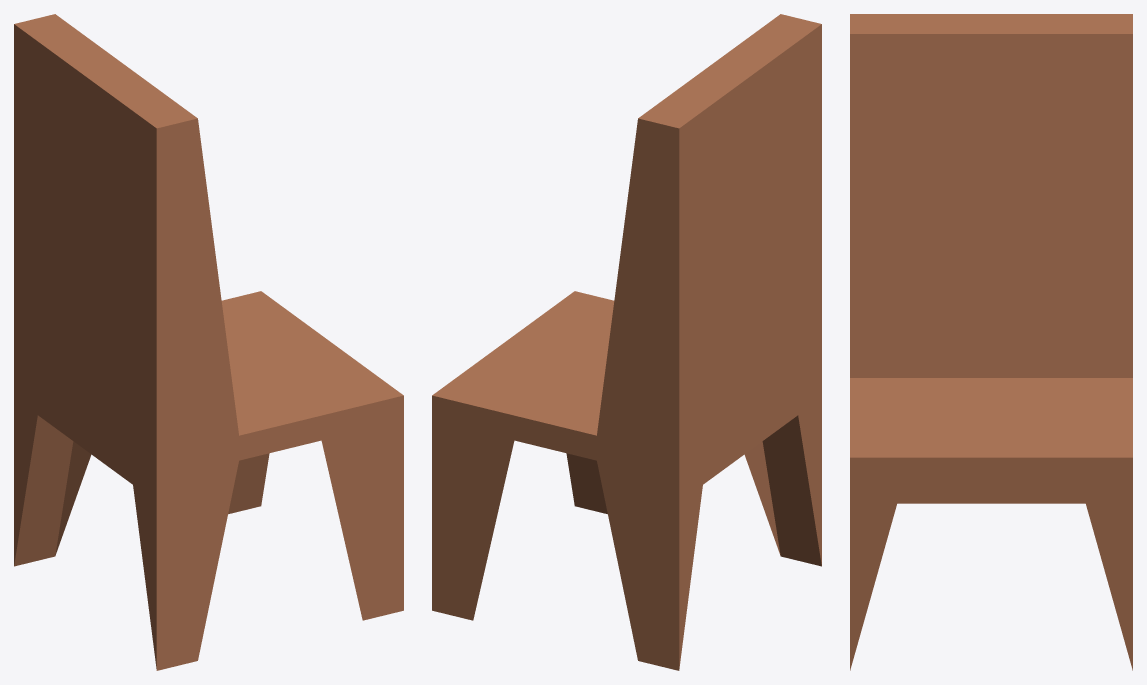
Rendered from Chair.fbx.
The picture shows the model from 3 angles, left to right: view 1: azimuth 30°, elevation 25°; view 2: azimuth 150°, elevation 25°; view 3: azimuth 270°, elevation 25°; orthographic projection.
Visible parts, largest first — view 1: Cube; view 2: Cube; view 3: Cube.
Boxes of the visible parts, x1=… form: Cube: x1=14, y1=14, x2=403, y2=670; Cube: x1=432, y1=14, x2=821, y2=670; Cube: x1=850, y1=14, x2=1132, y2=670.
Size of the model in its own units: 200 by 420 by 200.
Materials: 1 (1 with a texture image).
